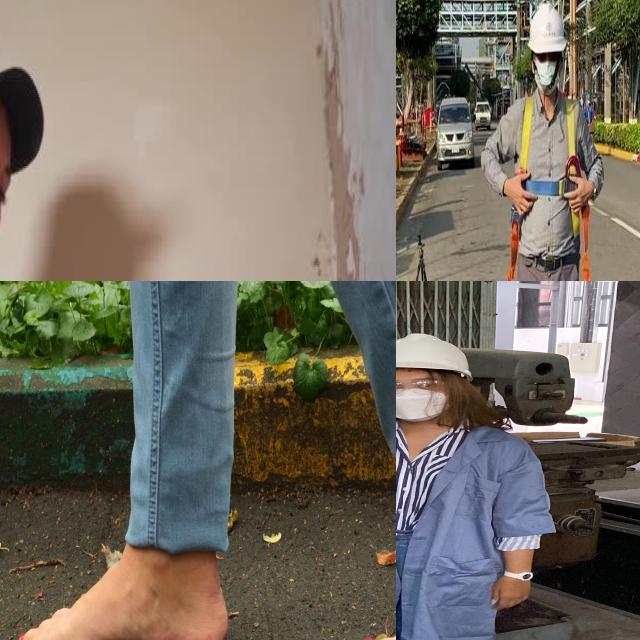Barefoots: (2, 560, 228, 640)
Harness: (519, 96, 592, 281), (507, 208, 522, 281)
No_Glasses: (0, 112, 13, 206)
face_mask: (396, 374, 462, 424)
glasses: (396, 377, 451, 395)
hand_noglove: (486, 575, 537, 612)
head_helmet: (396, 331, 471, 376)
person: (396, 330, 560, 640)
